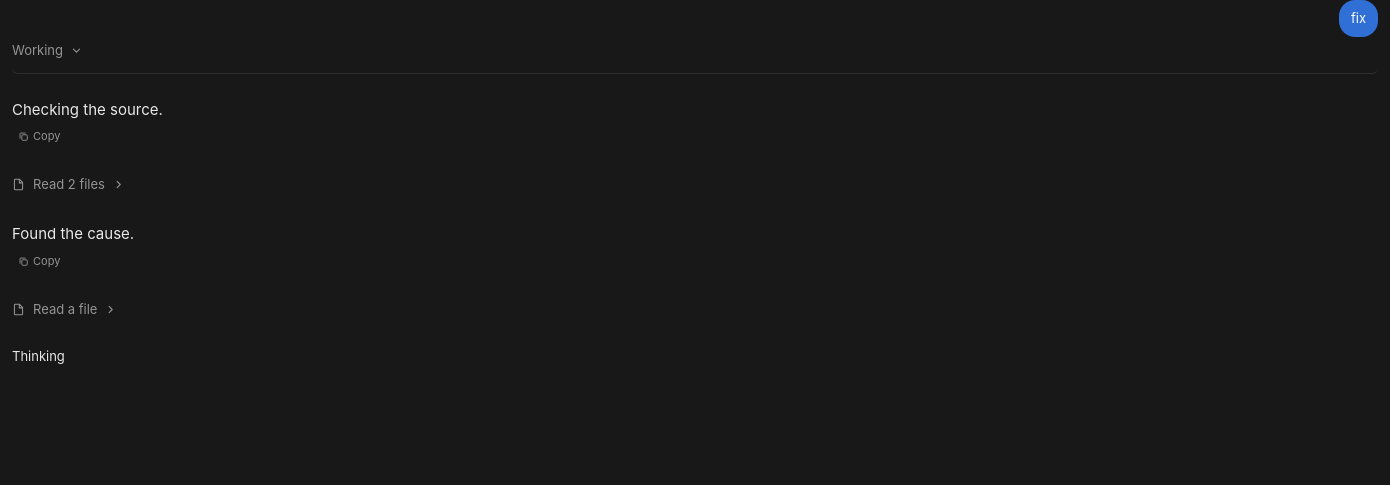
it: turn work disclosure › shows progress as prose and collapses tools independently between notes
expect the element with test id "work-detail" is shown: met, box [12, 100, 163, 364]
Click the button "Read 2 files".
click(68, 185)  # box [12, 171, 124, 198]
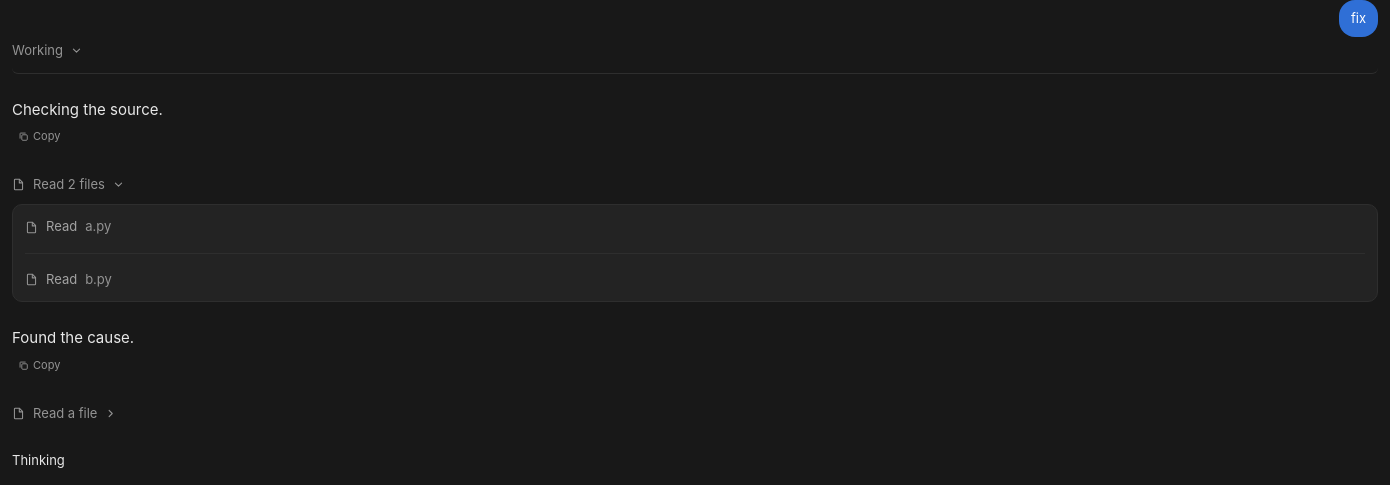
expect the button "Read a.py" is shown: met, box [25, 217, 1365, 237]
